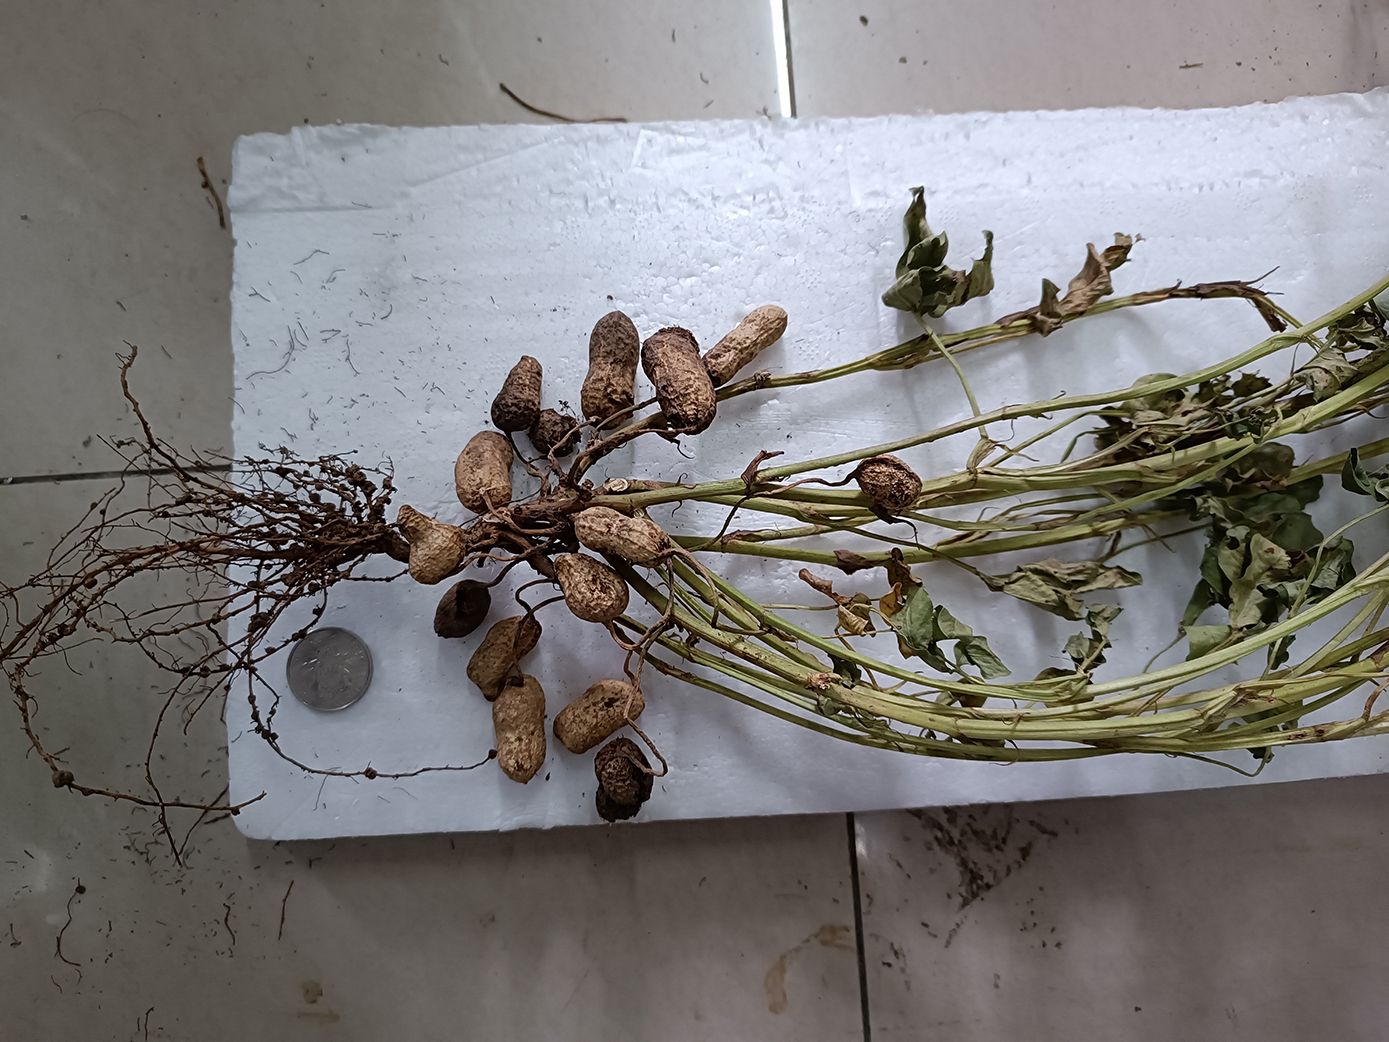h: (703, 304, 789, 387), (552, 679, 644, 754), (467, 615, 543, 701), (569, 506, 668, 568), (491, 674, 546, 783), (397, 503, 467, 584), (554, 553, 630, 621), (454, 430, 513, 514), (856, 454, 923, 508)
l: (641, 327, 716, 436), (580, 311, 640, 431), (593, 738, 653, 822), (491, 355, 543, 430), (433, 580, 491, 638), (529, 408, 580, 456)
